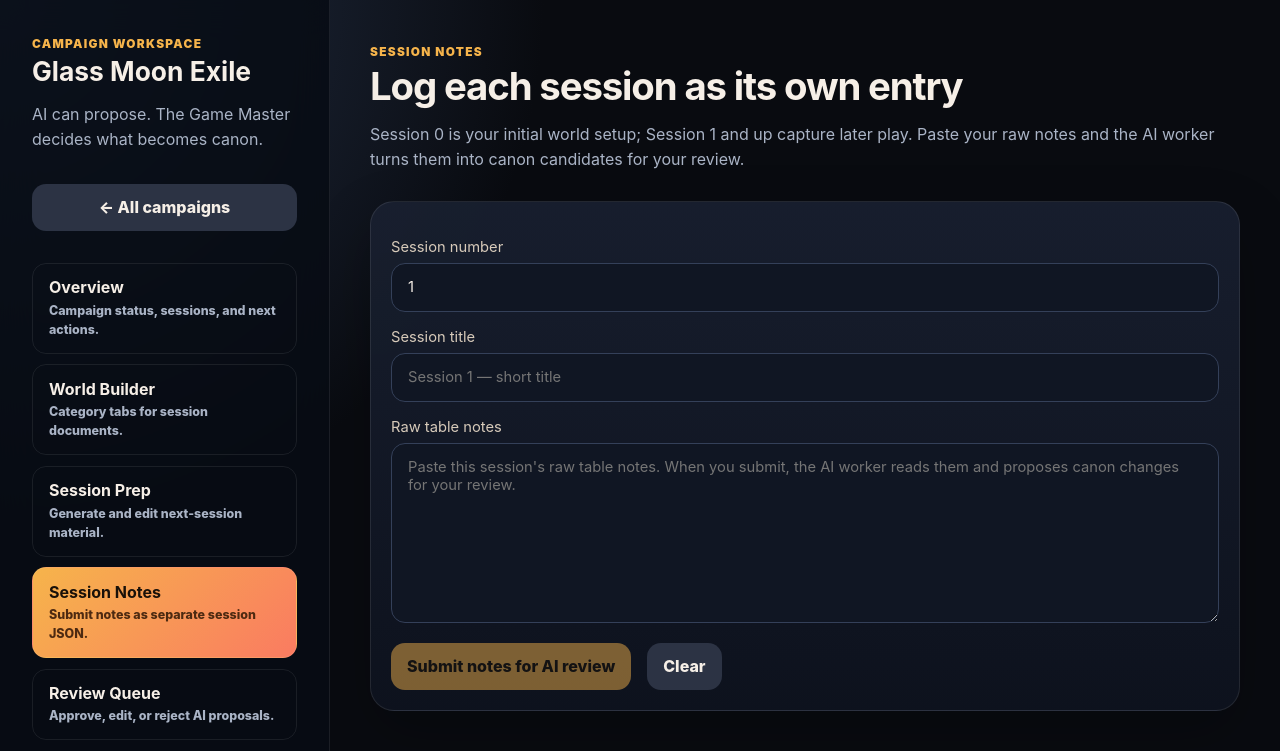
workspace flows (via the /v1 mock API) › submits session notes, gets AI proposals, and approves one into canon
Replace the text in the text box with placeholder "Paste this session's raw table notes" with "The Iron Court raised bridge tariffs on the river crossing." at (805, 533), box [391,443,1219,623]
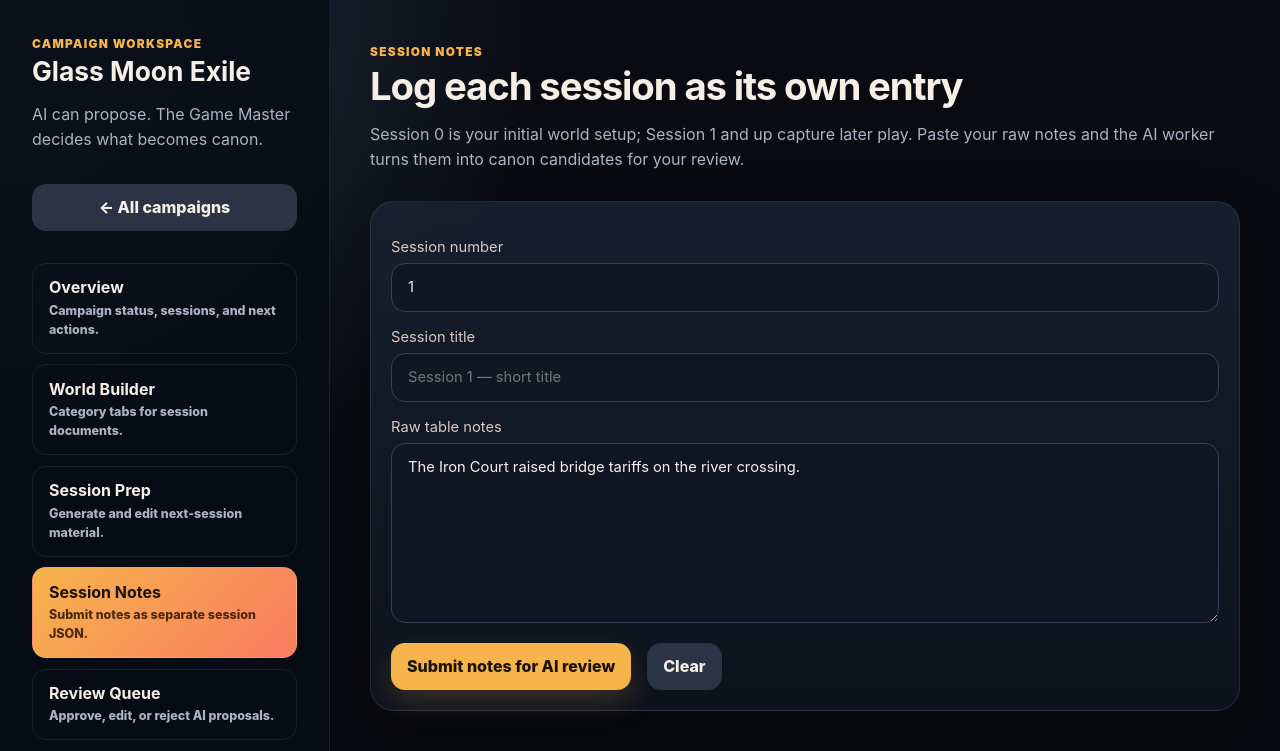
Click the button "Submit notes for AI review".
click(511, 666)  # box [391,643,631,690]
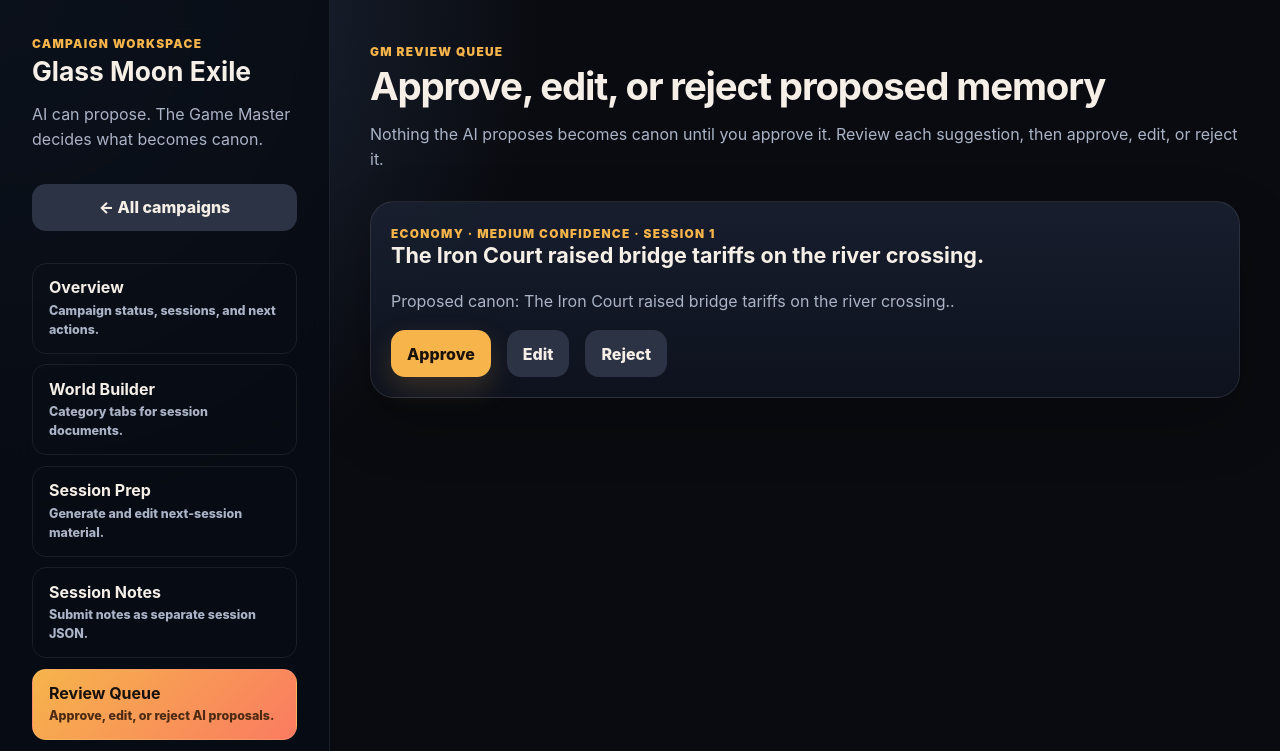
Click the button "Approve".
click(441, 354)  # box [391,330,491,377]
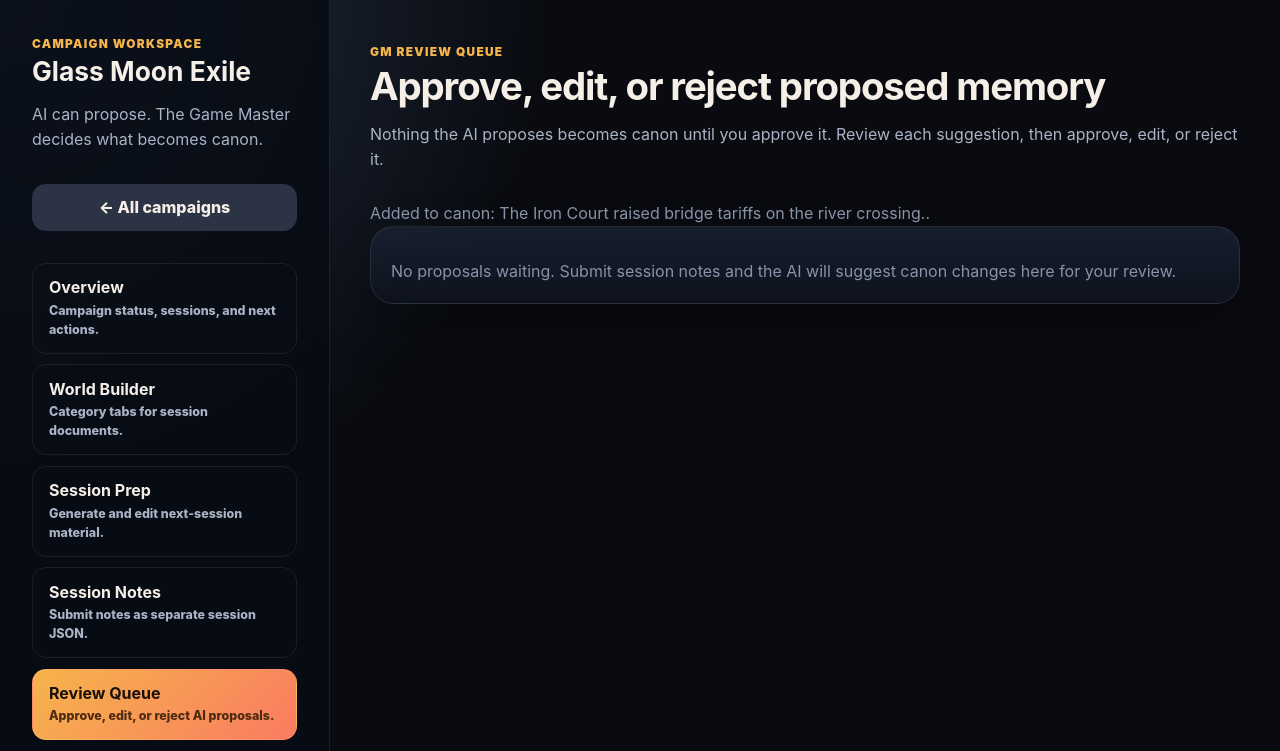
expect the text "Added to canon: The Iron Court raised bridge tariffs on the river crossing.." is shown: met, box [370,203,930,223]
